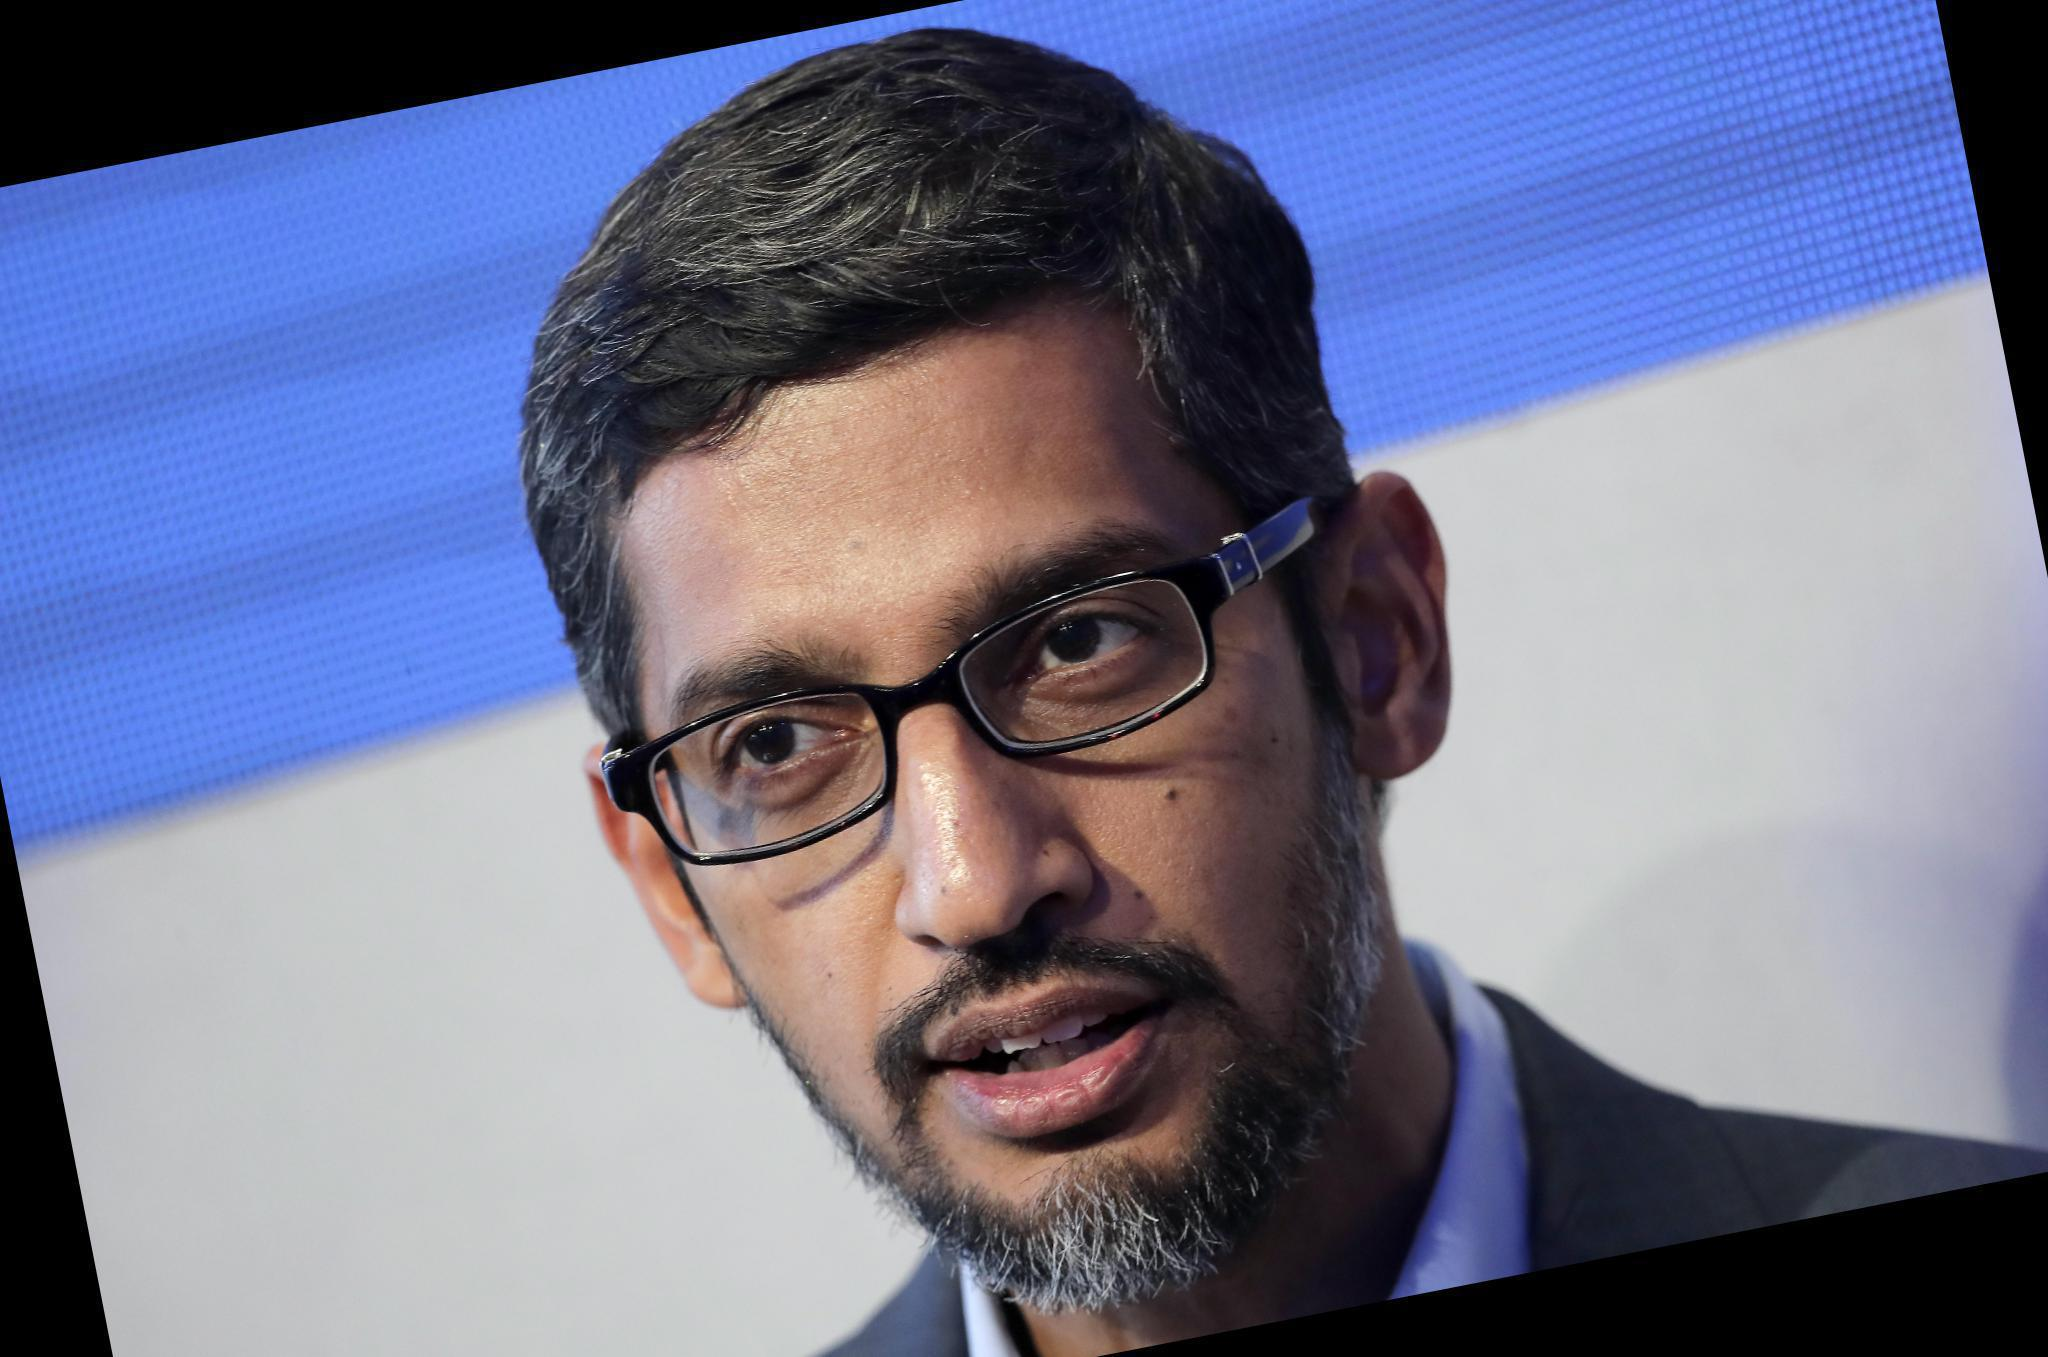Sober: (637, 435, 1302, 1156)
